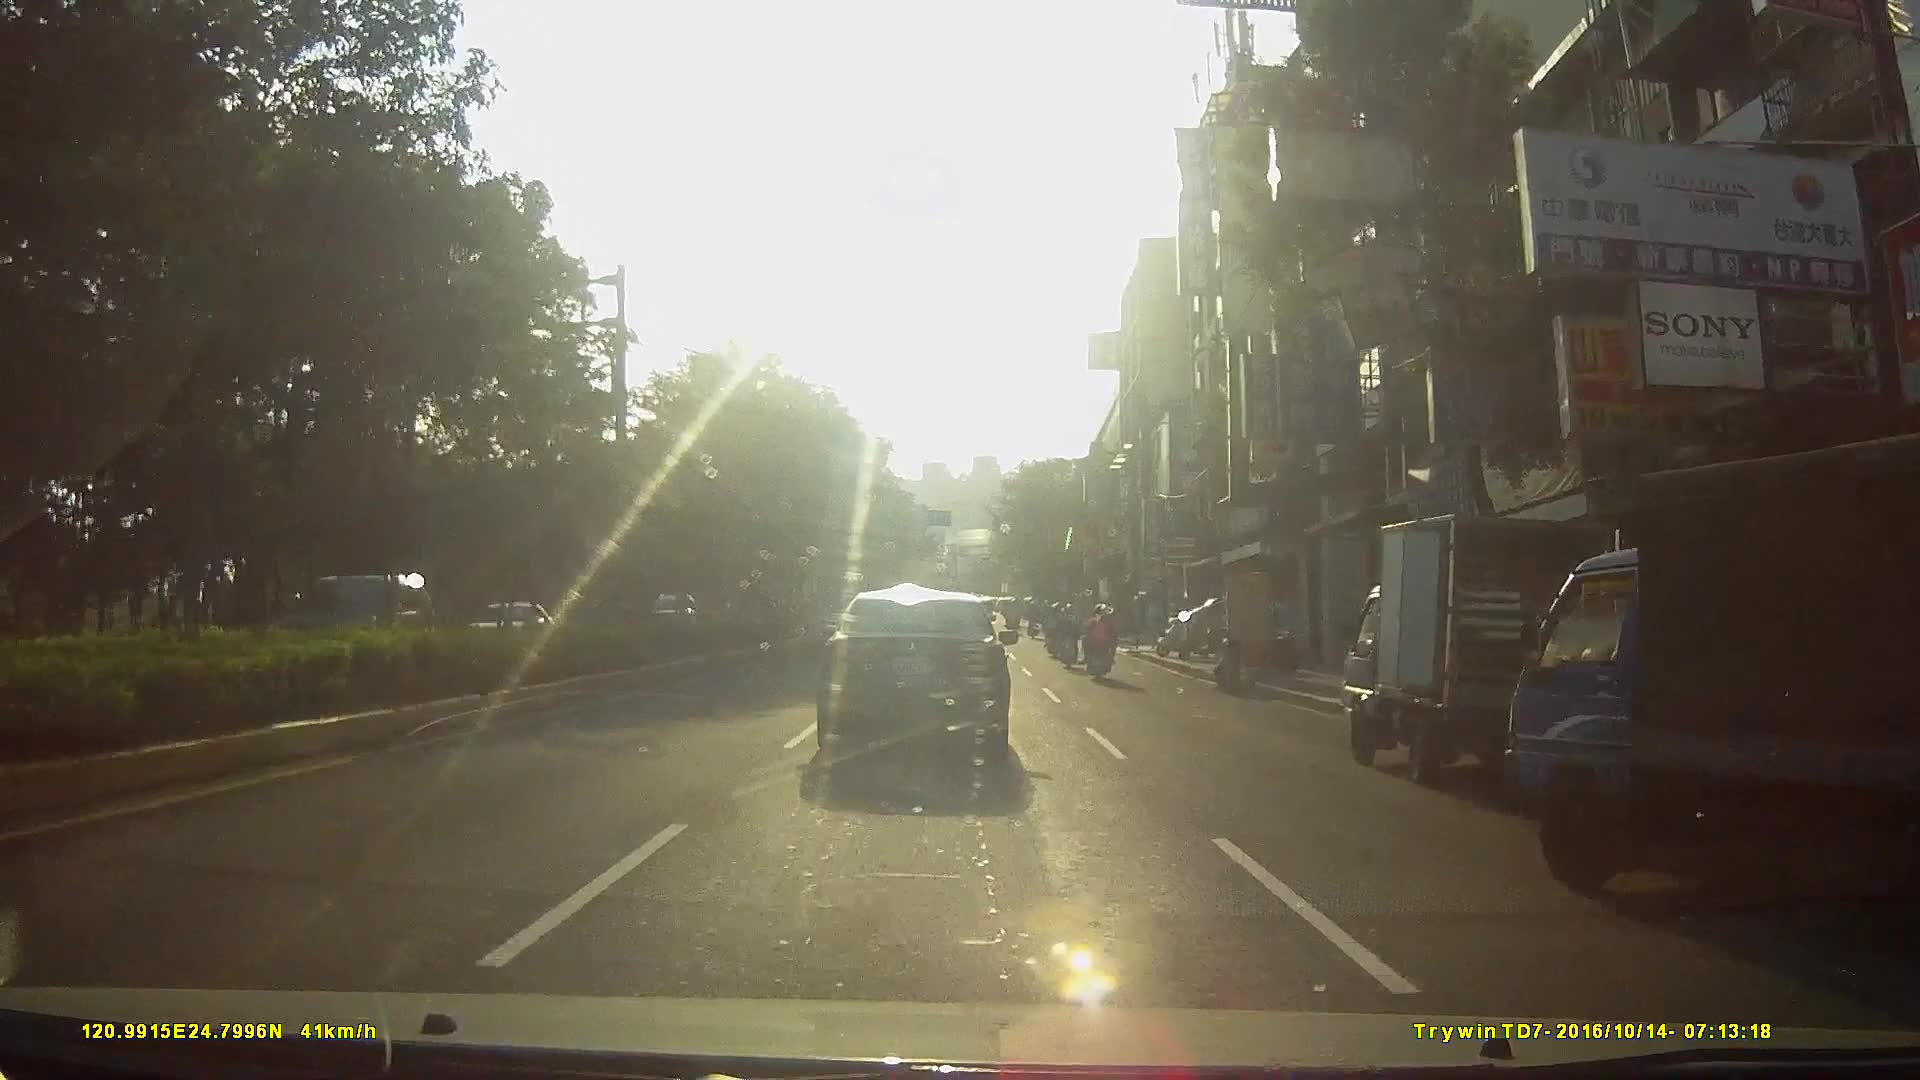rider: (1080, 603, 1120, 683), (1055, 603, 1083, 673), (1045, 606, 1065, 663)
vehicle: (1516, 440, 1920, 944), (1336, 504, 1643, 786), (811, 591, 1026, 786)
